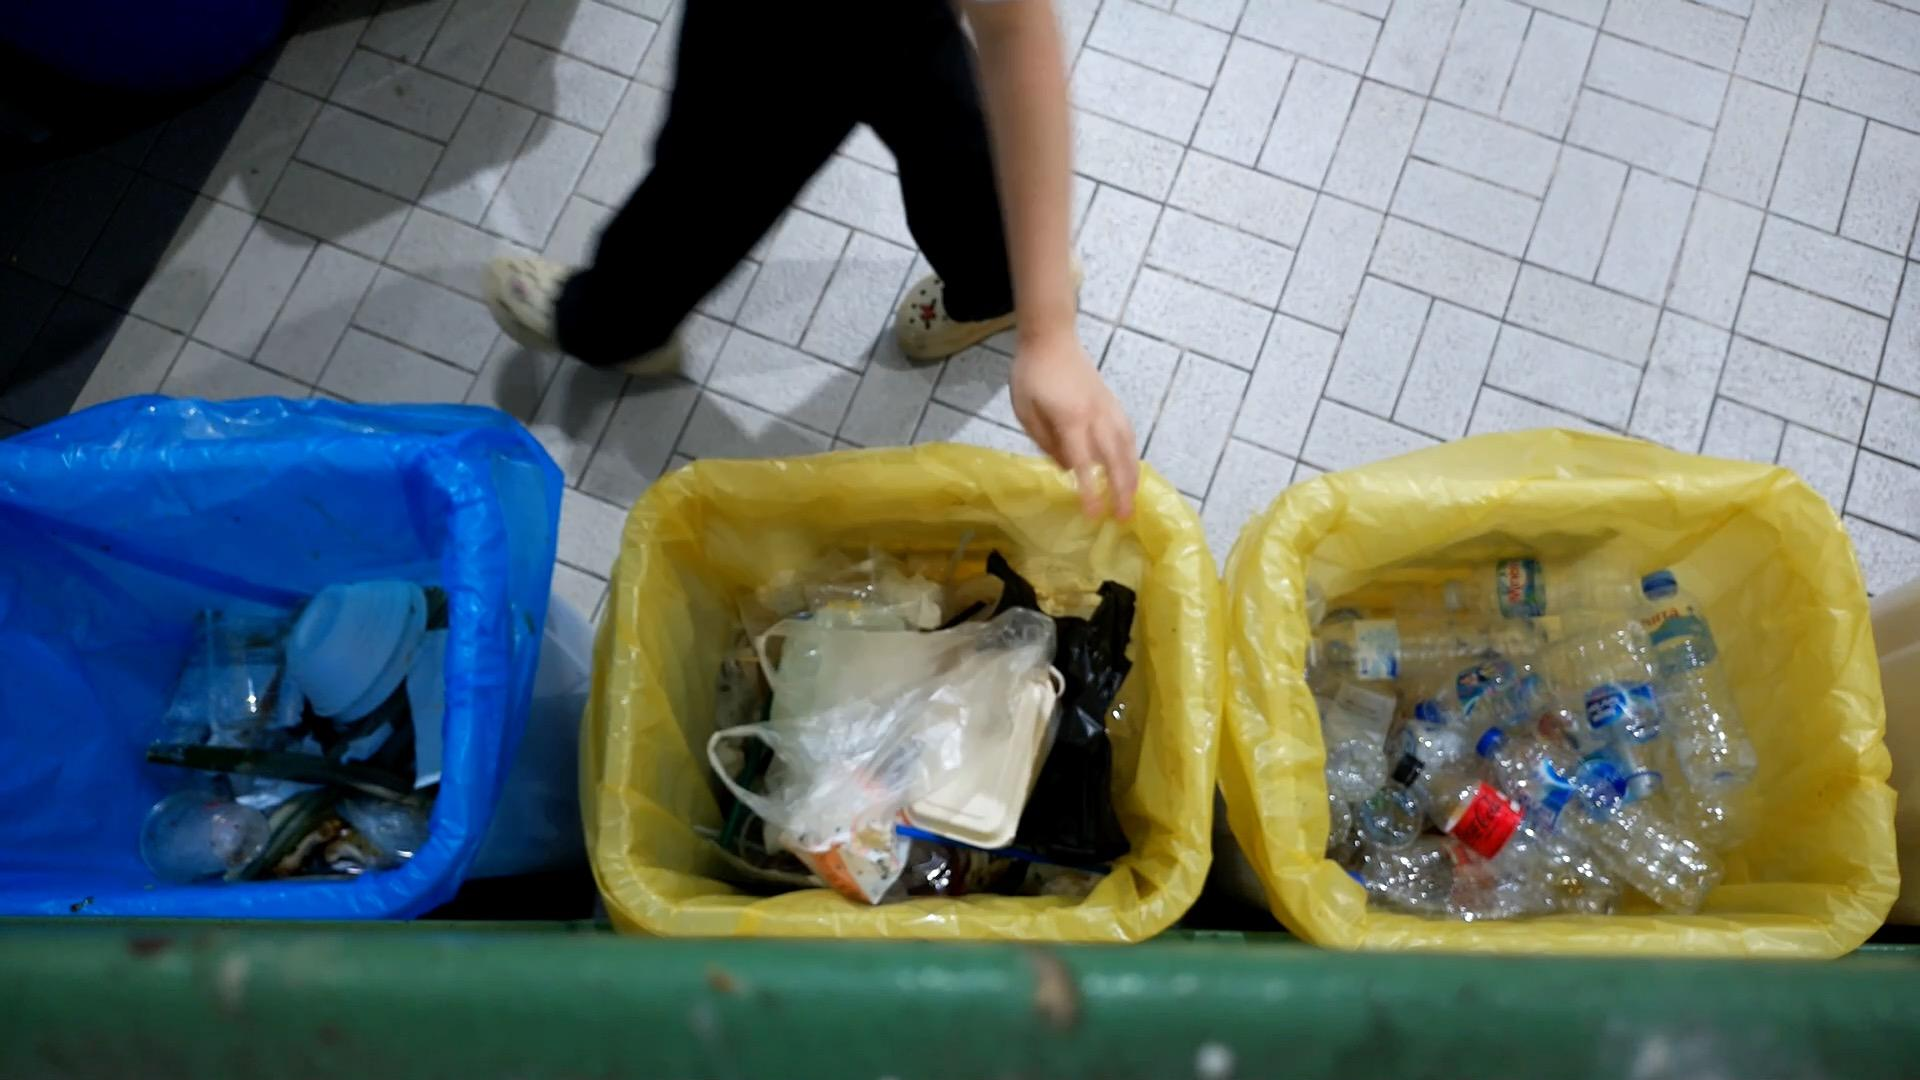food container: (898, 642, 1063, 849), (284, 576, 429, 725)
plastic bag: (702, 609, 1051, 829), (981, 547, 1141, 872)
plastic bottle: (1474, 725, 1724, 919), (1389, 753, 1625, 918), (1639, 568, 1774, 852), (1416, 622, 1663, 727), (1365, 559, 1633, 620), (1307, 620, 1551, 683)
plastic cup: (140, 789, 273, 885)
snack packaging: (785, 760, 914, 903)
